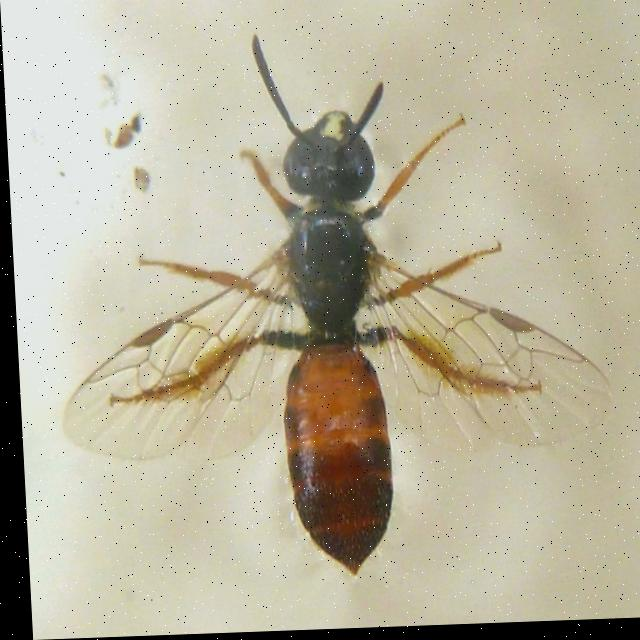Allodapula: (57, 21, 595, 613)
